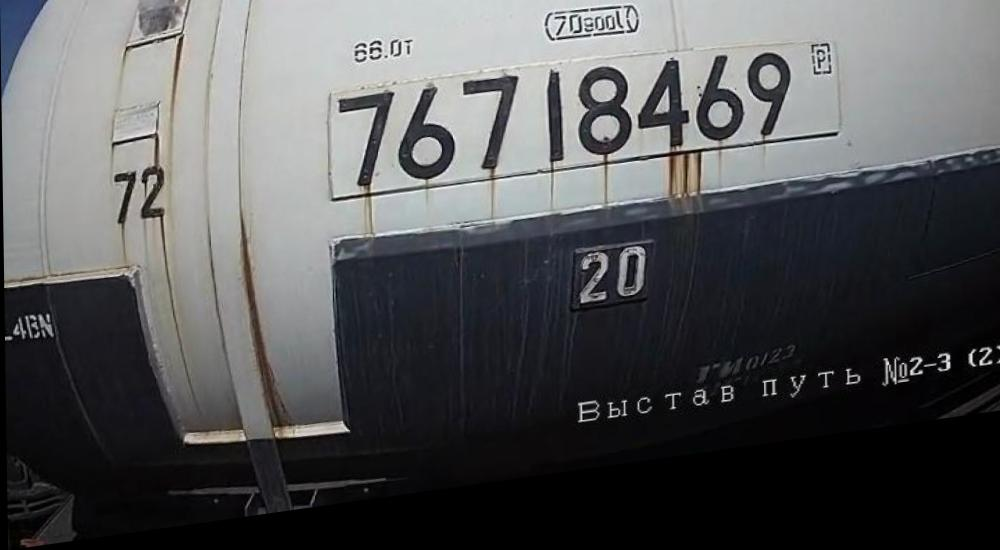Wagon-number: (328, 45, 800, 212)
